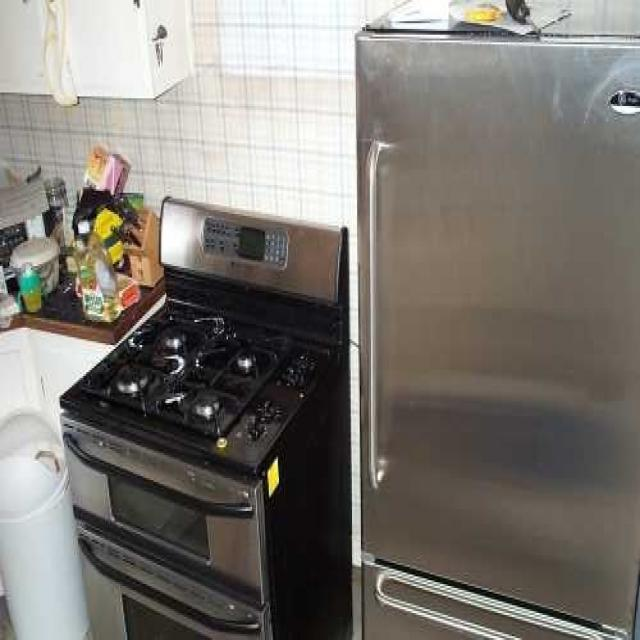refrigerator: (353, 25, 640, 640)
